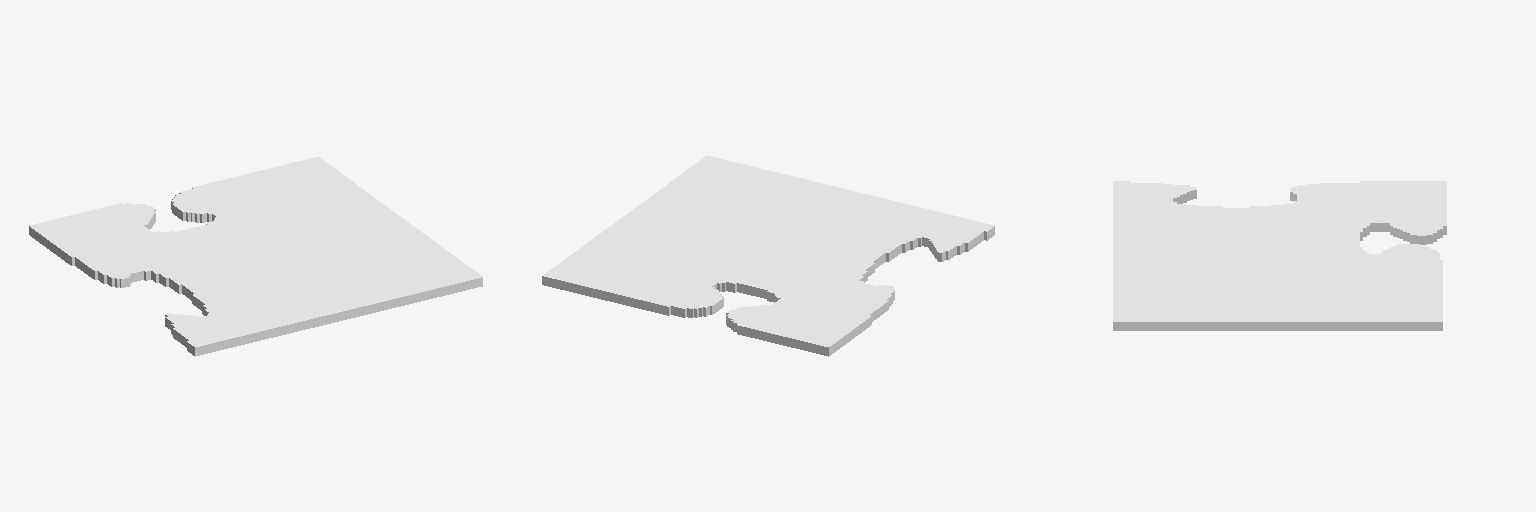
The model's file is puzzle_2.obj.
3 views of the same model, side by side, from view 1: azimuth 30°, elevation 25°; view 2: azimuth 150°, elevation 25°; view 3: azimuth 270°, elevation 25° (orthographic).
Size of the model in its own units: 100 by 3 by 100.